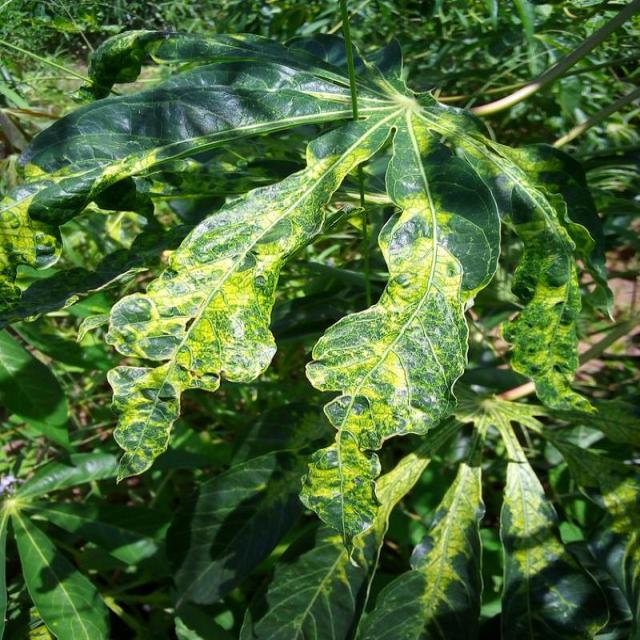cassava leaf: (7, 27, 612, 559)
